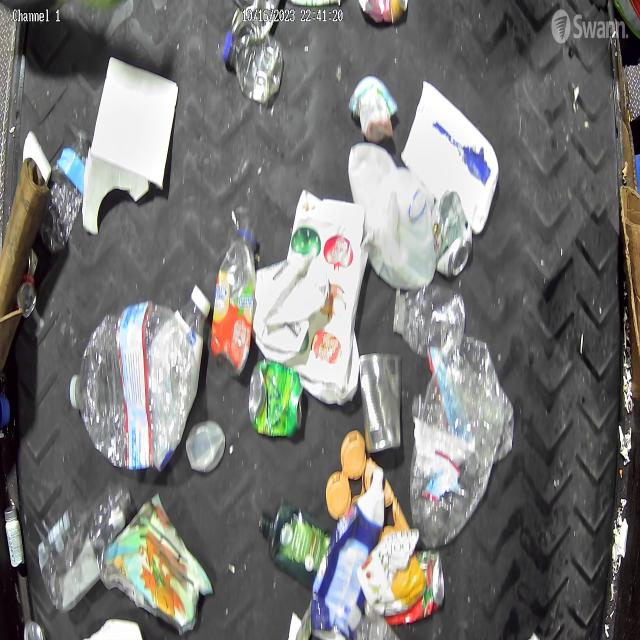can: (358, 350, 402, 456), (248, 360, 304, 440), (434, 189, 472, 279), (409, 548, 447, 615), (17, 248, 38, 317), (356, 1, 411, 26), (19, 620, 48, 640)
milk_jug: (347, 142, 437, 288)
non_white_jug: (310, 468, 384, 640)
plastic_bottle: (69, 295, 191, 470), (412, 344, 512, 545), (37, 482, 132, 608), (212, 223, 257, 372), (220, 20, 284, 106), (38, 142, 86, 256), (393, 286, 468, 356), (176, 283, 210, 376), (353, 611, 403, 640)
